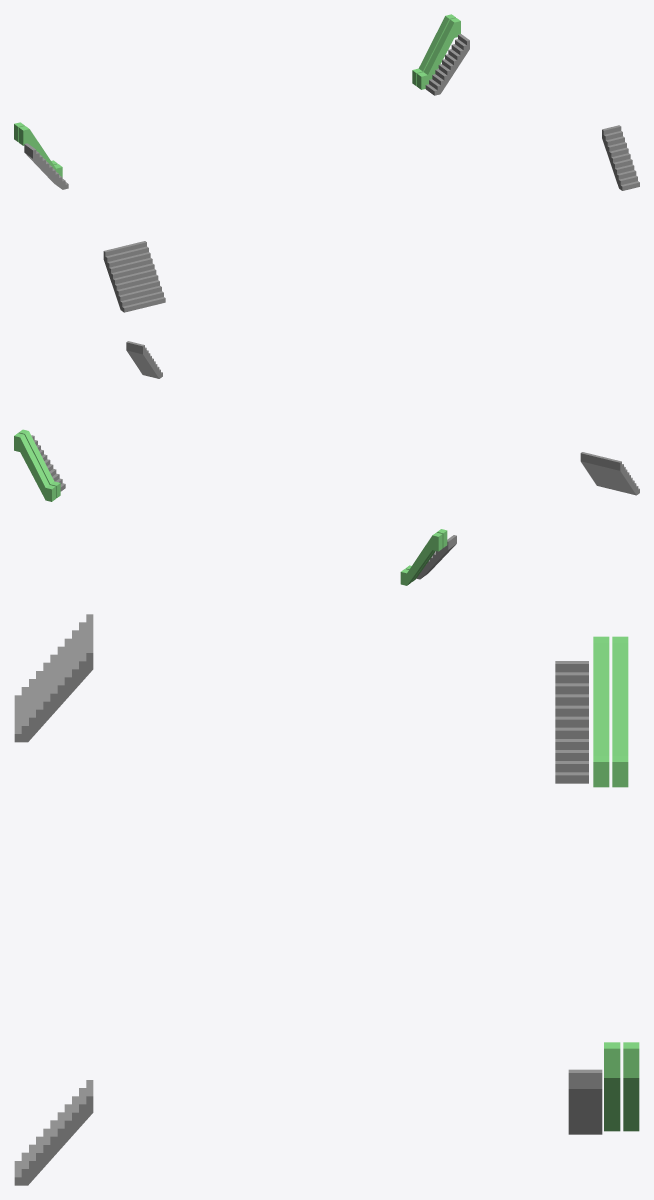
The picture shows the model from 3 angles, top to bottom: view 1: azimuth 30°, elevation 25°; view 2: azimuth 150°, elevation 25°; view 3: azimuth 270°, elevation 25°; orthographic projection. The views are drawn at different scales.
Parts seen in each view (by area): view 1: 階段.042, 階段.043, 階段.041, エスカレーター.052, 階段.040, エスカレーター.051, エスカレーター.049; view 2: 階段.042, エスカレーター.051, 階段.043, エスカレーター.050, エスカレーター.052, 階段.040; view 3: 階段.042, 階段.040, 階段.043, エスカレーター.049, エスカレーター.050, 階段.041, エスカレーター.051, エスカレーター.052.
Boxes of the visible parts, x1,y1,x2,y2 form: 階段.042: (103,241,165,312); 階段.043: (602,125,639,190); 階段.041: (425,34,469,95); エスカレーター.052: (417,18,460,89); 階段.040: (24,143,68,189); エスカレーター.051: (412,14,455,86); エスカレーター.049: (19,126,62,177); 階段.042: (580,452,639,495); エスカレーター.051: (14,433,55,501); 階段.043: (126,341,162,378); エスカレーター.050: (400,532,442,585); エスカレーター.052: (18,429,60,498); 階段.040: (416,535,456,579); 階段.042: (14,614,93,742); 階段.040: (555,661,588,783); 階段.043: (14,1080,93,1185); エスカレーター.049: (593,636,609,787); エスカレーター.050: (612,636,628,787); 階段.041: (568,1069,602,1134); エスカレーター.051: (623,1042,639,1131); エスカレーター.052: (604,1042,620,1131).
Bounding box in the file's own units: 11933 × 1312 × 6536.
